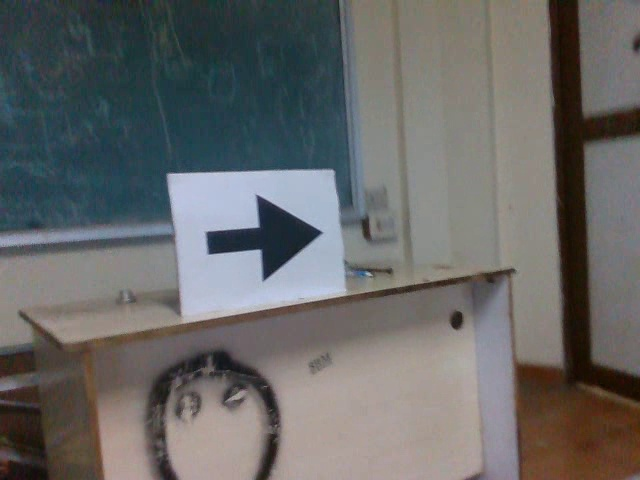Right: (197, 188, 326, 286)
